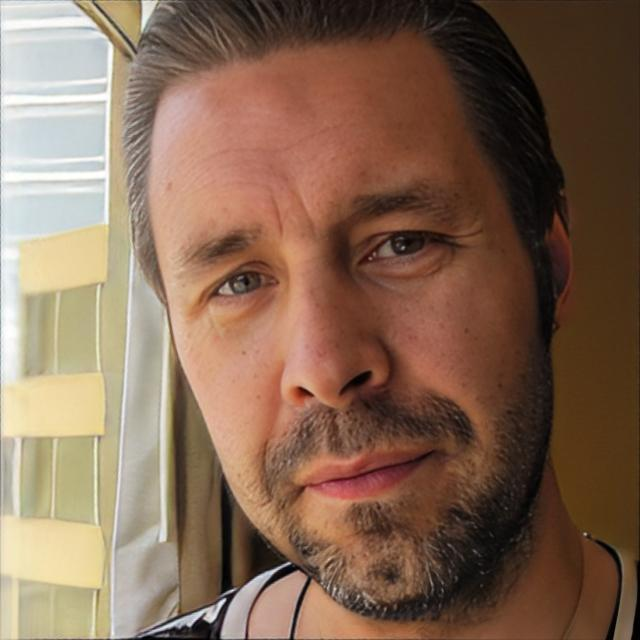neutral: (142, 37, 554, 620)
